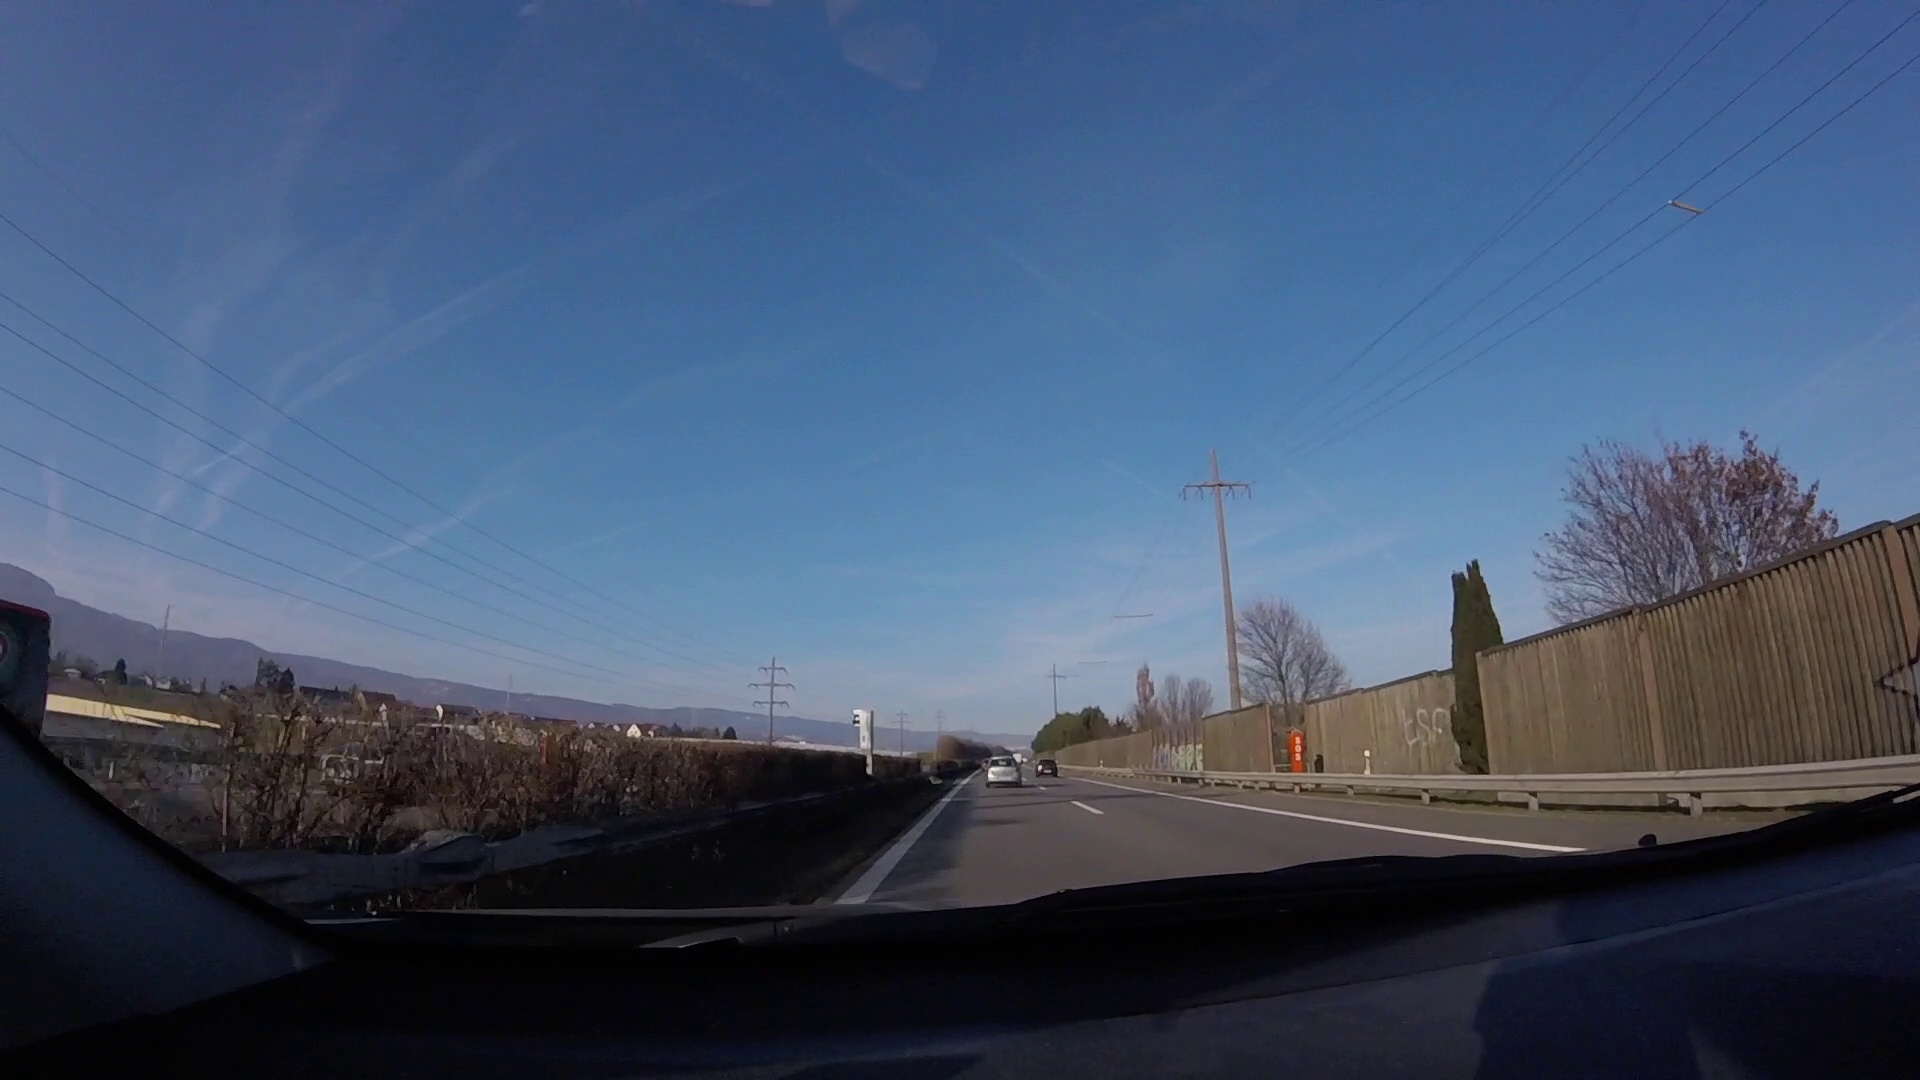radar: (851, 708, 880, 779)
